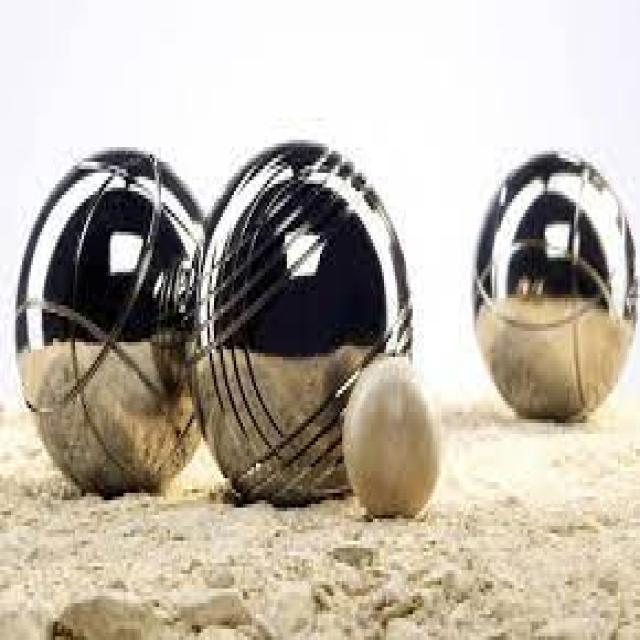hatball: (336, 356, 451, 531)
petanque: (188, 137, 417, 508), (13, 147, 206, 495), (466, 145, 638, 425)
